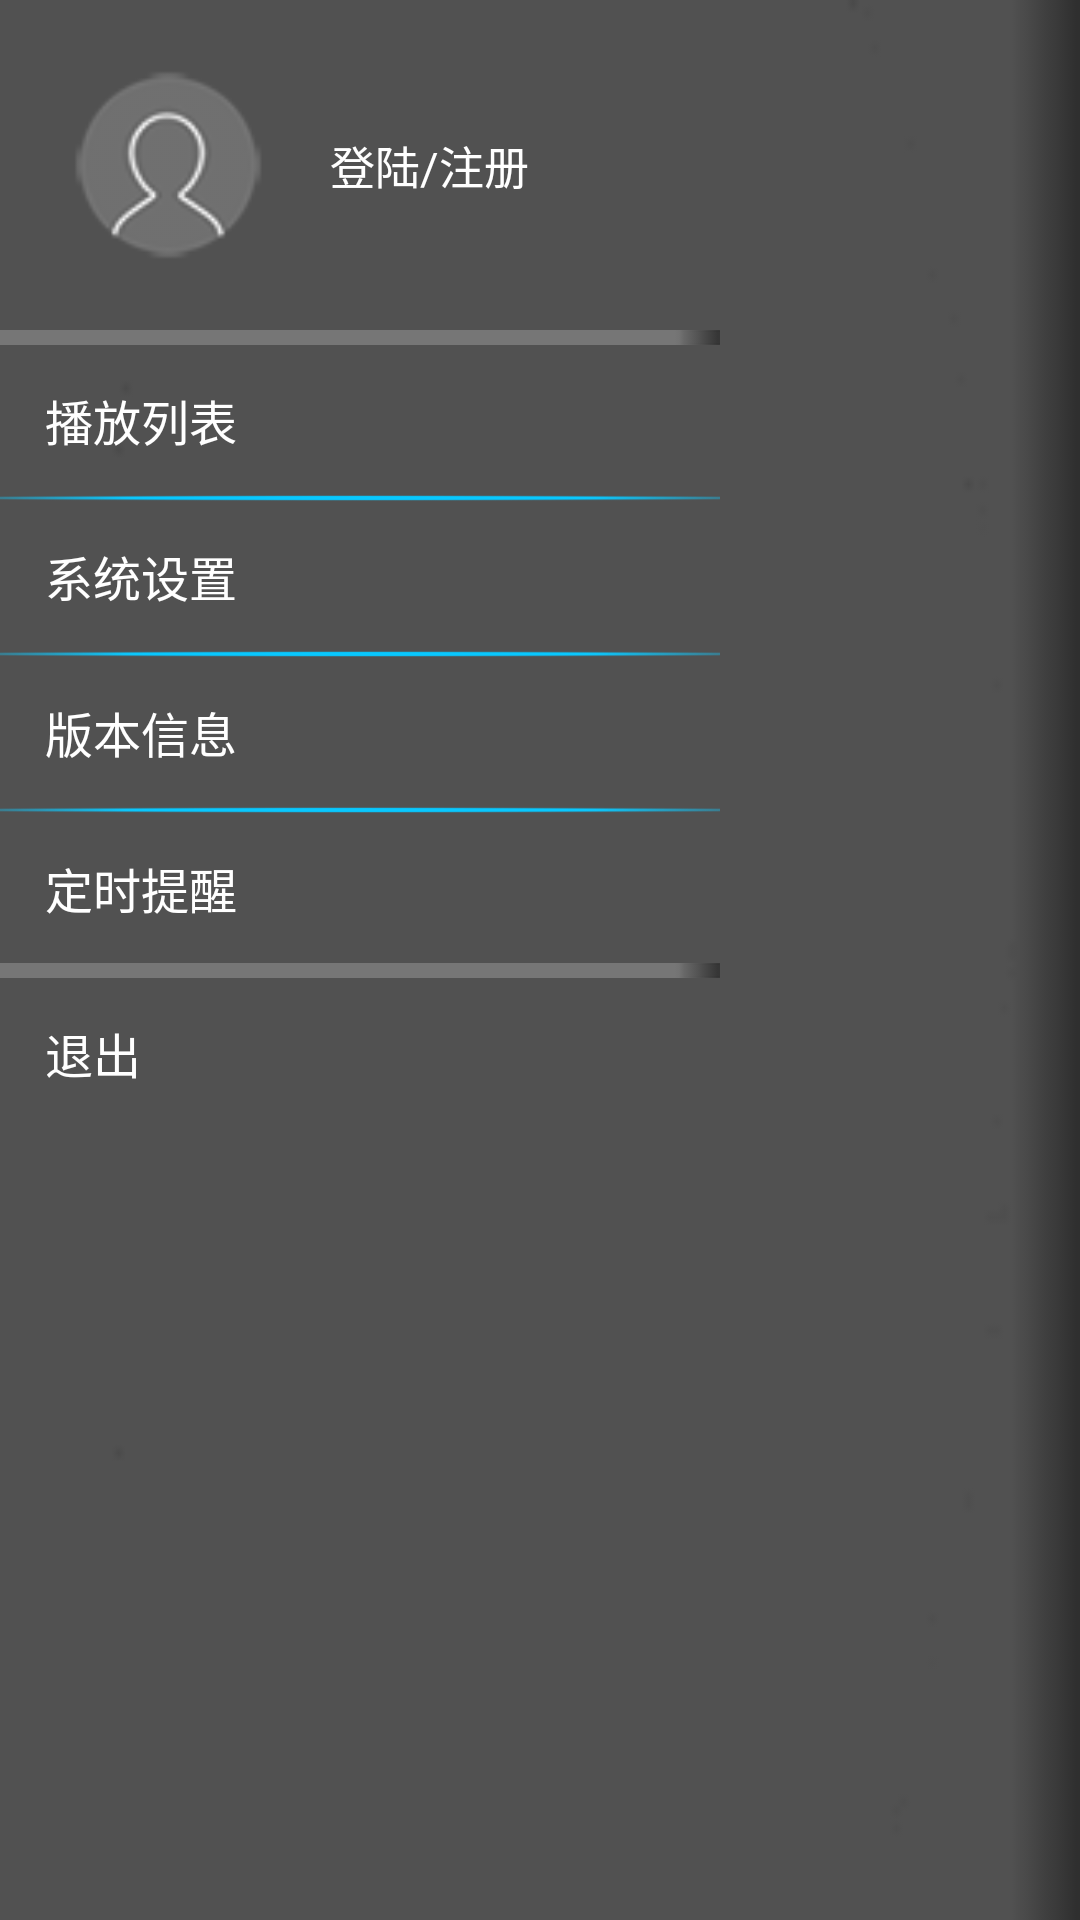

Screen size 1080*1920. Icon name, then its center in pixels as (x=x, y=y):
user: (x=168, y=165)
